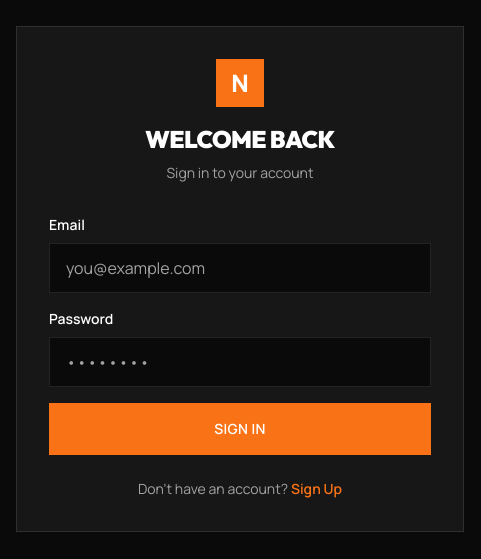
Scenario: Login Page › shows password length error for short password
The width and height of the screenshot is (481, 559).
In the field with test id "email-input": (240, 268) [49,243,431,293], type "test@test.com"
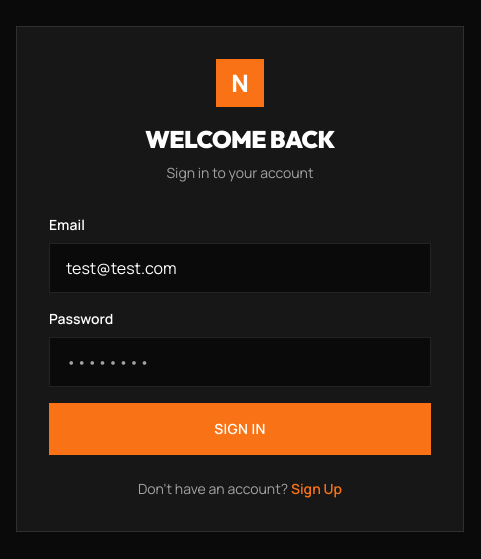
In the password field with test id "password-input": (240, 362) [49,337,431,387], type "123"
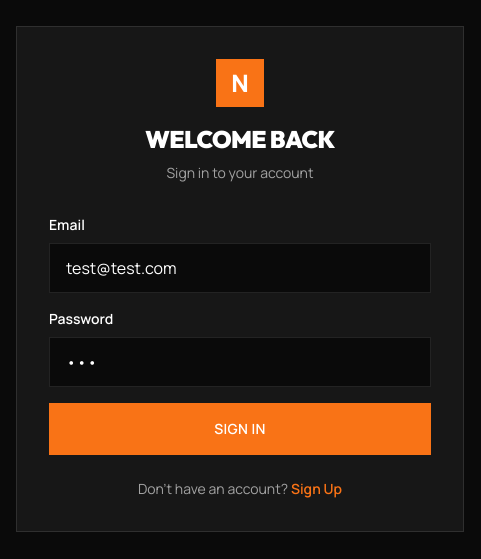
Click the button with test id "submit-btn": (240, 429) [49,403,431,455]
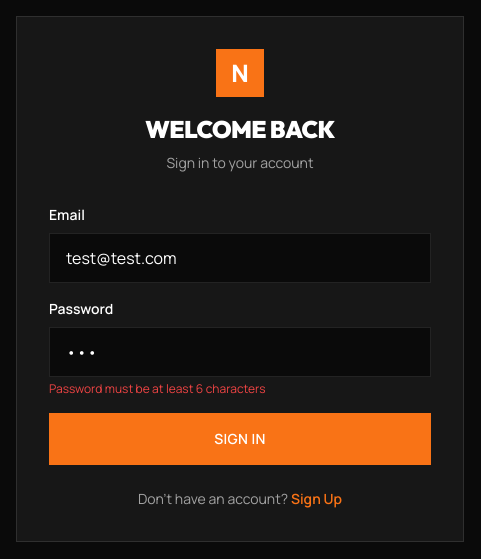
Check: the text with test id "password-error" reads "Password must be at least 6 characters", box [49,380,266,397]
